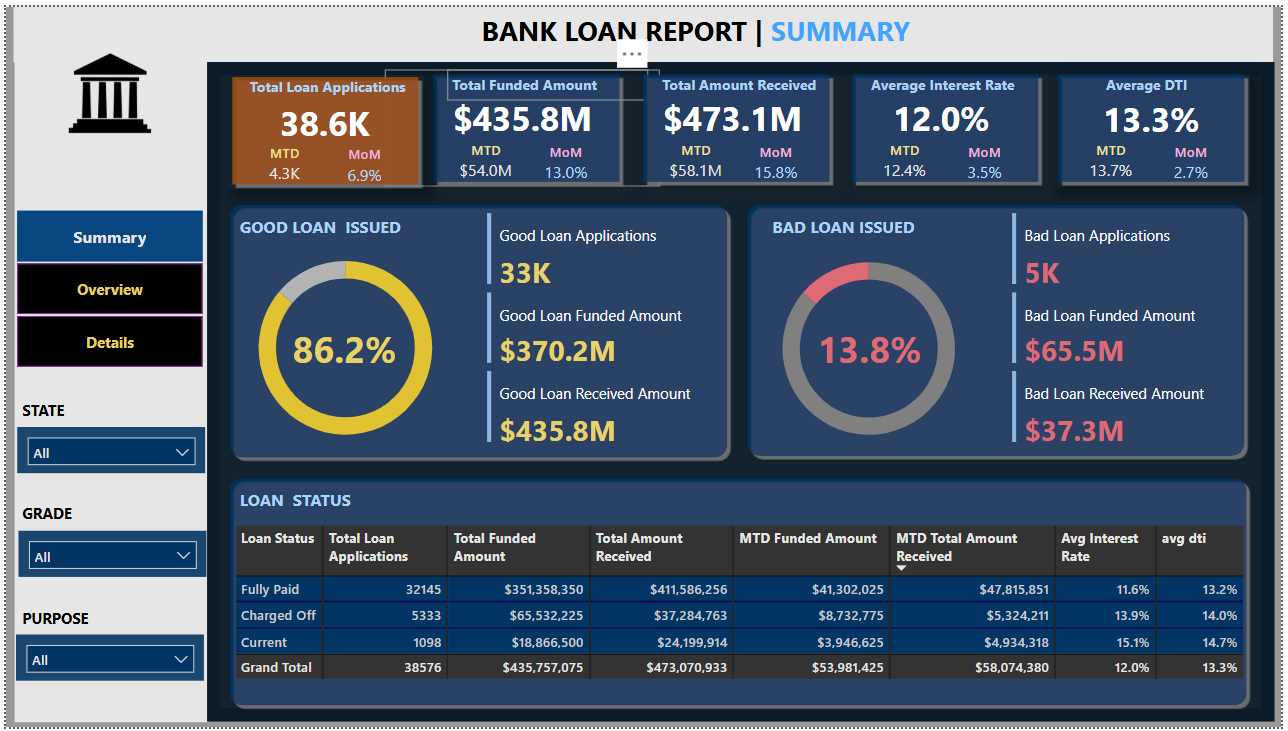

What the dashboard file says about the page in this screenshot:
{"tool":"powerbi","page":{"name":"Summary","canvas":[1260,712],"ordinal":0},"visuals":[{"type":"shape","box":[8.6,24.3,191.4,681.4],"z":0},{"type":"shape","box":[624.2,61.5,194.2,116.3],"z":0,"group":"g2"},{"type":"shape","box":[831.2,61.5,194.2,116.3],"z":0,"group":"g3"},{"type":"shape","box":[1034.2,61.5,194.2,116.3],"z":0,"group":"g4"},{"type":"shape","box":[417.2,62.2,194.2,116.3],"z":0,"group":"g1"},{"type":"shape","box":[217.9,64.1,194.2,116.3],"z":0,"group":"g5"},{"type":"shape","box":[7.1,0,1244.3,54.3],"z":1000},{"type":"card","fields":{"Values":["bank_loan_data.Total Amount Received"]},"box":[580.9,88.8,272,42],"z":1000,"group":"g2"},{"type":"card","fields":{"Values":["bank_loan_data.Average Interest Rate"]},"box":[787.9,88.8,272,42],"z":1000,"group":"g3"},{"type":"card","fields":{"Values":["bank_loan_data.Total Funded Amount"]},"box":[373.9,89.5,272,42],"z":1000,"group":"g1"},{"type":"card","fields":{"Values":["bank_loan_data.avg dti"]},"box":[994.9,90.5,272,42],"z":1000,"group":"g4"},{"type":"card","fields":{"Values":["bank_loan_data.Total Loan Applications"]},"box":[178.6,93.1,272,42],"z":1000,"group":"g5"},{"type":"textbox","box":[1080.9,61.5,199,31],"z":2000,"group":"g4"},{"type":"textbox","box":[642.9,61.8,199,31],"z":2000,"group":"g2"},{"type":"textbox","box":[849.9,61.8,199,31],"z":2000,"group":"g3"},{"type":"textbox","box":[435.9,62.5,199,31],"z":2000,"group":"g1"},{"type":"textbox","box":[234.9,63.9,198.6,31.4],"z":2000,"group":"g5"},{"type":"textbox","box":[247.4,192.3,198.7,30.8],"z":2000},{"type":"textbox","box":[274.3,0,814.3,54.3],"z":3000},{"type":"card","title":"MTD","fields":{"Values":["bank_loan_data.MTD Total Amount Received"]},"box":[638.2,131.9,86.7,45.3],"z":3000,"group":"g2"},{"type":"card","title":"MTD","fields":{"Values":["bank_loan_data.MTD Average Interest Rate"]},"box":[845.2,131.9,86.7,45.3],"z":3000,"group":"g3"},{"type":"card","title":"MTD","fields":{"Values":["bank_loan_data.MTD Avg Dti"]},"box":[1048.2,131.9,86.7,45.3],"z":3000,"group":"g4"},{"type":"card","title":"MTD","fields":{"Values":["bank_loan_data.MTD Funded Amount"]},"box":[431.2,132.6,86.7,45.3],"z":3000,"group":"g1"},{"type":"card","title":"MTD","fields":{"Values":["bank_loan_data.MTD Loan Applications"]},"box":[231.9,134.5,86.7,45.3],"z":3000,"group":"g5"},{"type":"shape","box":[198.6,54.3,1054.3,651.4],"z":4000},{"type":"card","title":"MoM","fields":{"Values":["bank_loan_data.MoM Total Amount Received"]},"box":[727.6,132.8,64,44],"z":4000,"group":"g2"},{"type":"card","title":"MoM","fields":{"Values":["bank_loan_data.MoM Avg Interest Rate"]},"box":[934.6,132.8,64,44],"z":4000,"group":"g3"},{"type":"card","title":"MoM","fields":{"Values":["bank_loan_data.MoM Avg dti"]},"box":[1137.6,132.8,64,44],"z":4000,"group":"g4"},{"type":"card","title":"MoM","fields":{"Values":["bank_loan_data.MoM Total Funded Amount"]},"box":[520.6,133.5,64,44],"z":4000,"group":"g1"},{"type":"card","title":"MoM","fields":{"Values":["bank_loan_data.MoM Loan Applications"]},"box":[321.3,135.4,64,44],"z":4000,"group":"g5"},{"type":"group","id":"g1","title":"Group 1","box":[373.9,62.2,271.8,115.4],"z":5000},{"type":"group","id":"g2","title":"Group 1","box":[580.9,61.5,271.8,116.7],"z":6000},{"type":"group","id":"g3","title":"Group 1","box":[787.9,61.5,271.8,116.7],"z":7000},{"type":"group","id":"g4","title":"Group 1","box":[994.9,61.5,284.6,116.7],"z":8000},{"type":"group","id":"g5","title":"Group 1","box":[178.6,63.9,272,116.5],"z":9000},{"type":"shape","box":[727.1,190,501.4,258.6],"z":10000},{"type":"shape","box":[215.7,190,501.4,260],"z":11000},{"type":"donutChart","fields":{"Category":["bank_loan_data.Good vs Bad Loan"],"Y":["bank_loan_data.Total Loan Applications"]},"box":[214.1,224.4,243.6,224.4],"z":12000},{"type":"card","fields":{"Values":["bank_loan_data.Good Loan %"]},"box":[198.7,316.7,271.8,41],"z":13000},{"type":"textbox","box":[751.4,201.4,177.1,47.1],"z":14000},{"type":"textbox","box":[225.7,201.4,210,31.4],"z":15000},{"type":"cardVisual","fields":{"Data":["bank_loan_data.Good Loan Applications","bank_loan_data.Good Loan Funded Amount","bank_loan_data.Good Loan Amount Received"]},"box":[470,198.6,237.1,238.6],"z":16000},{"type":"donutChart","fields":{"Category":["bank_loan_data.Good vs Bad Loan"],"Y":["bank_loan_data.Total Loan Applications"]},"box":[723.1,225.6,257.7,223.1],"z":17000},{"type":"card","fields":{"Values":["bank_loan_data.Bad Loan %"]},"box":[716.7,316.7,271.8,41],"z":18000},{"type":"cardVisual","fields":{"Data":["bank_loan_data.Bad Loan Applications","bank_loan_data.Bad Loan Funded Amount","bank_loan_data.Bad Loan Received Amount"]},"box":[988.6,198.6,237.1,238.6],"z":19000},{"type":"shape","box":[215.7,460,1014.3,234.3],"z":20000},{"type":"tableEx","fields":{"Values":["bank_loan_data.loan_status","bank_loan_data.Total Loan Applications","bank_loan_data.Total Funded Amount","bank_loan_data.Total Amount Received","bank_loan_data.MTD Funded Amount","bank_loan_data.MTD Total Amount Received","bank_loan_data.Average Interest Rate","bank_loan_data.avg dti"]},"box":[221.4,507.1,1031.4,198.6],"z":21000},{"type":"textbox","box":[225.7,470,355.7,31.4],"z":22000},{"type":"slicer","fields":{"Values":["bank_loan_data.address_state"]},"box":[11.4,414.3,185.7,45.7],"z":23000},{"type":"textbox","box":[11.4,382.9,64.3,31.4],"z":24000},{"type":"slicer","fields":{"Values":["bank_loan_data.grade"]},"box":[12.9,517.1,185.7,45.7],"z":25000},{"type":"textbox","box":[11.4,485.7,75.7,31.4],"z":26000},{"type":"textbox","box":[11.4,588.6,105.7,31.4],"z":27000},{"type":"slicer","fields":{"Values":["bank_loan_data.purpose"]},"box":[10,620,185.7,45.7],"z":28000},{"type":"pageNavigator","box":[10.8,201.4,183.8,155.4],"z":29000},{"type":"image","box":[35.1,10.8,135.1,156.8],"z":30000}]}

Visuals, with their boxes in screenshot pixels (x1, y1, x2, y2), scaled from the page's 1260x712 canvas onto the 1288x731 screenshot:
shape: detection(9, 25, 204, 725)
shape: detection(638, 63, 837, 183)
shape: detection(850, 63, 1048, 183)
shape: detection(1057, 63, 1256, 183)
shape: detection(426, 64, 625, 183)
shape: detection(223, 66, 421, 185)
shape: detection(7, 0, 1279, 56)
card - bank_loan_data.Total Amount Received: detection(594, 91, 872, 134)
card - bank_loan_data.Average Interest Rate: detection(805, 91, 1083, 134)
card - bank_loan_data.Total Funded Amount: detection(382, 92, 660, 135)
card - bank_loan_data.avg dti: detection(1017, 93, 1287, 136)
card - bank_loan_data.Total Loan Applications: detection(183, 96, 461, 139)
textbox: detection(1105, 63, 1287, 95)
textbox: detection(657, 63, 861, 95)
textbox: detection(869, 63, 1072, 95)
textbox: detection(446, 64, 649, 96)
textbox: detection(240, 66, 443, 98)
textbox: detection(253, 197, 456, 229)
textbox: detection(280, 0, 1113, 56)
"MTD" card: detection(652, 135, 741, 182)
"MTD" card: detection(864, 135, 953, 182)
"MTD" card: detection(1071, 135, 1160, 182)
"MTD" card: detection(441, 136, 529, 183)
"MTD" card: detection(237, 138, 326, 185)
shape: detection(203, 56, 1281, 725)
"MoM" card: detection(744, 136, 809, 182)
"MoM" card: detection(955, 136, 1021, 182)
"MoM" card: detection(1163, 136, 1228, 182)
"MoM" card: detection(532, 137, 598, 182)
"MoM" card: detection(328, 139, 394, 184)
"Group 1" group: detection(382, 64, 660, 182)
"Group 1" group: detection(594, 63, 872, 183)
"Group 1" group: detection(805, 63, 1083, 183)
"Group 1" group: detection(1017, 63, 1287, 183)
"Group 1" group: detection(183, 66, 461, 185)
shape: detection(743, 195, 1256, 461)
shape: detection(220, 195, 733, 462)
donutChart - bank_loan_data.Good vs Bad Loan x bank_loan_data.Total Loan Applications: detection(219, 230, 468, 461)
card - bank_loan_data.Good Loan %: detection(203, 325, 481, 367)
textbox: detection(768, 207, 949, 255)
textbox: detection(231, 207, 445, 239)
cardVisual - bank_loan_data.Good Loan Applications x bank_loan_data.Good Loan Funded Amount: detection(480, 204, 723, 449)
donutChart - bank_loan_data.Good vs Bad Loan x bank_loan_data.Total Loan Applications: detection(739, 232, 1003, 461)
card - bank_loan_data.Bad Loan %: detection(733, 325, 1010, 367)
cardVisual - bank_loan_data.Bad Loan Applications x bank_loan_data.Bad Loan Funded Amount: detection(1011, 204, 1253, 449)
shape: detection(220, 472, 1257, 713)
tableEx - bank_loan_data.loan_status x bank_loan_data.Total Loan Applications: detection(226, 521, 1281, 725)
textbox: detection(231, 483, 594, 515)
slicer - bank_loan_data.address_state: detection(12, 425, 201, 472)
textbox: detection(12, 393, 77, 425)
slicer - bank_loan_data.grade: detection(13, 531, 203, 578)
textbox: detection(12, 499, 89, 531)
textbox: detection(12, 604, 120, 637)
slicer - bank_loan_data.purpose: detection(10, 637, 200, 683)
pageNavigator: detection(11, 207, 199, 366)
image: detection(36, 11, 174, 172)
